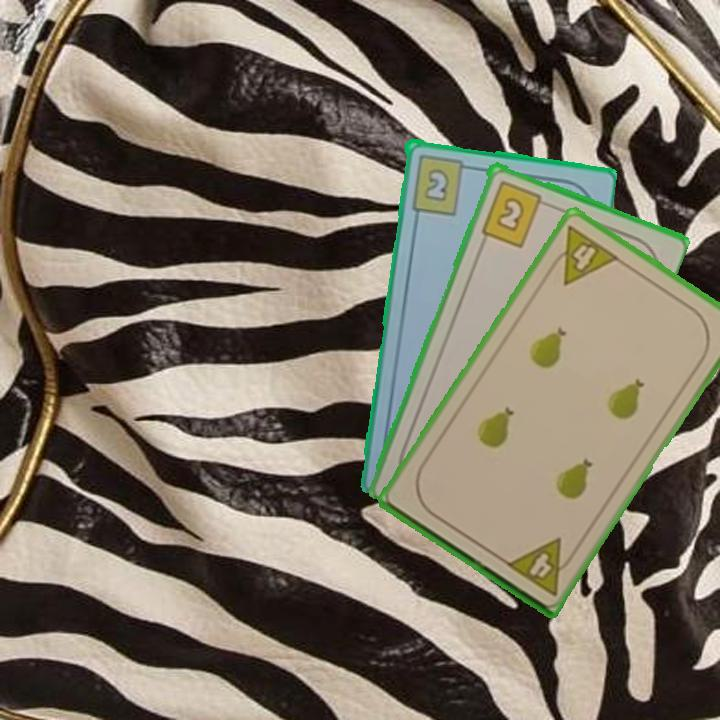2b: (477, 176, 553, 250), (407, 151, 475, 217)
4p: (543, 222, 622, 288), (502, 534, 580, 599)
